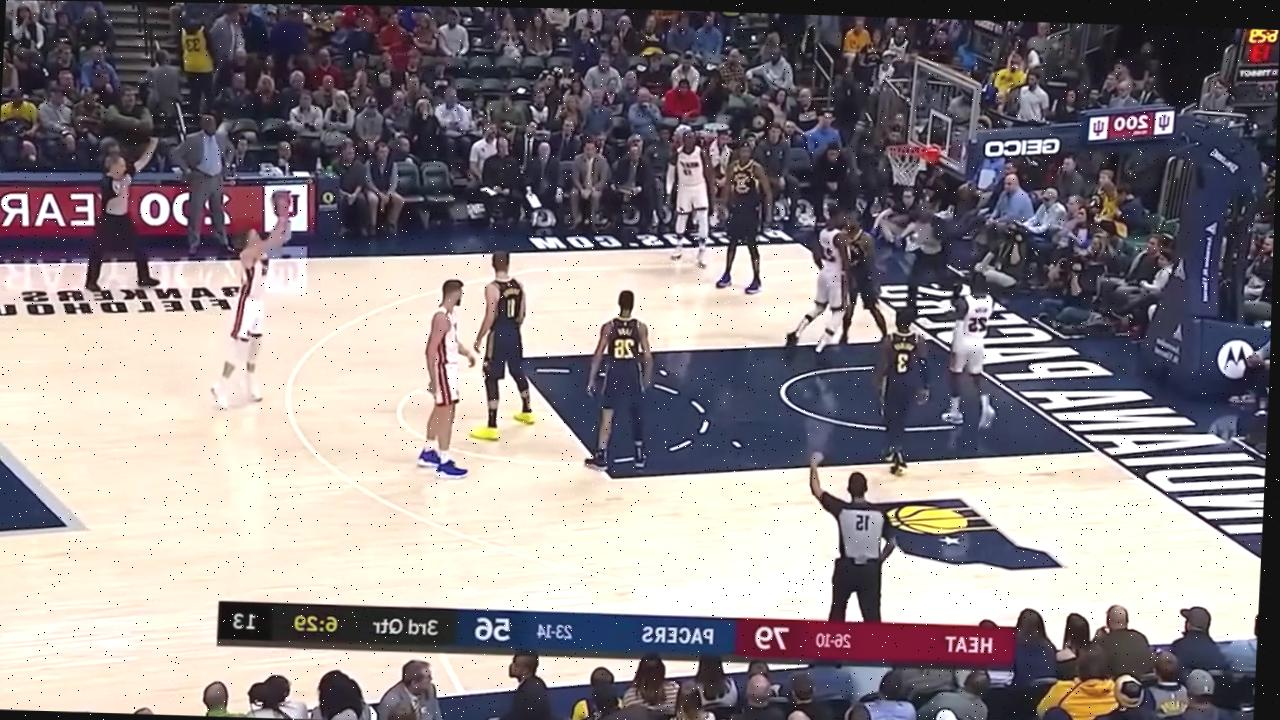foul: (771, 197, 907, 363)
